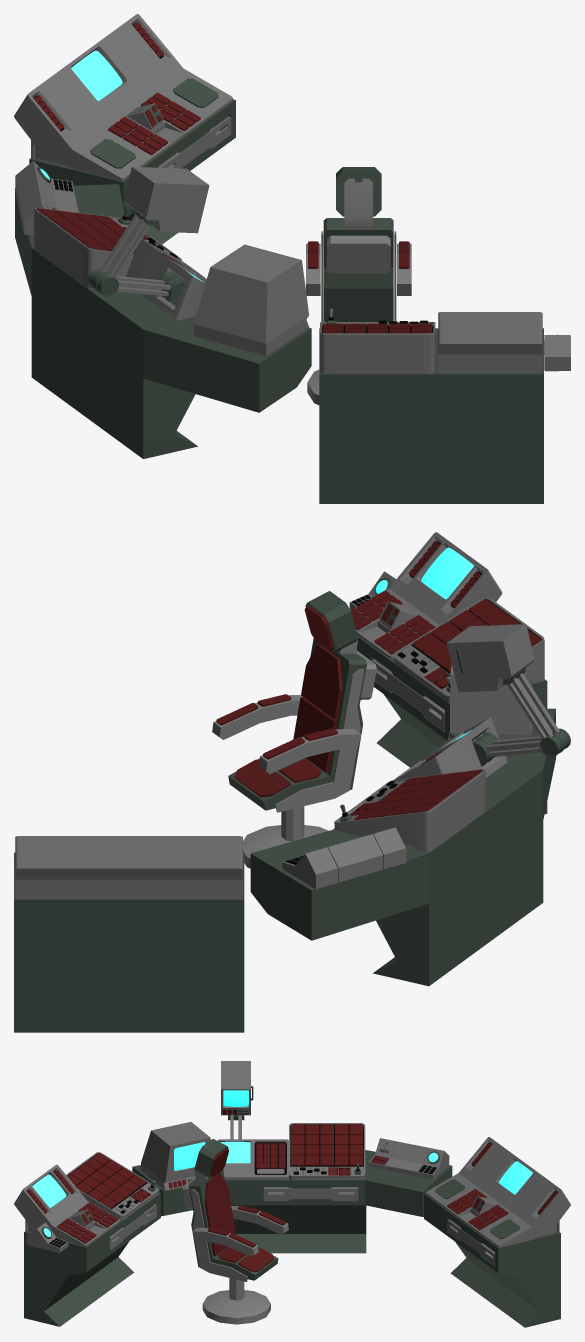
File: control_terminal.glb
3 renders of one model, top to bottom at view 1: azimuth 30°, elevation 25°; view 2: azimuth 150°, elevation 25°; view 3: azimuth 270°, elevation 25°, orthographic. The views are drawn at different scales.
Visible parts, largest first — view 1: polySurface121 (×3), pCube76 (×2), pCube64, polySurface119 (×2), pasted__polySurface16, polySurface130, pCube72 (×2), polySurface125, pasted__polySurface17, pCube62, pCube101, polySurface171 (+9 smaller); view 2: polySurface121 (×3), pCube76 (×2), polySurface119 (×2), pCube72 (×2), polySurface130, pCube62, pCube64, pasted__polySurface10, pasted__polySurface16, polySurface125, pasted__polySurface2, pasted__polySurface4 (+14 smaller); view 3: polySurface121 (×3), pCube76 (×2), pCube72 (×2), polySurface119 (×2), pCube64, polySurface129 (×3), pCube62, pCube101 (×2), pasted__pCylinder1, polySurface125, pasted__polySurface10, polySurface146 (×2) (+14 smaller).
Part boxes in pixels (x1=…): polySurface121 (×3): x1=15, y1=99, x2=543, y2=503; pCube76 (×2): x1=14, y1=14, x2=542, y2=373; pCube64: x1=194, y1=244, x2=308, y2=355; polySurface119 (×2): x1=34, y1=207, x2=435, y2=373; pasted__polySurface16: x1=323, y1=218, x2=393, y2=321; polySurface130: x1=123, y1=166, x2=209, y2=233; pCube72 (×2): x1=36, y1=208, x2=432, y2=333; polySurface125: x1=126, y1=239, x2=206, y2=320; pasted__polySurface17: x1=327, y1=235, x2=390, y2=273; pCube62: x1=15, y1=161, x2=78, y2=234; pCube101: x1=108, y1=92, x2=200, y2=154; polySurface171: x1=90, y1=78, x2=218, y2=168; polySurface121 (×3): x1=14, y1=635, x2=555, y2=1032; pCube76 (×2): x1=15, y1=532, x2=502, y2=898; polySurface119 (×2): x1=334, y1=597, x2=544, y2=851; pCube72 (×2): x1=354, y1=598, x2=541, y2=819; polySurface130: x1=446, y1=624, x2=534, y2=692; pCube62: x1=282, y1=827, x2=406, y2=889; pCube64: x1=450, y1=664, x2=533, y2=739; pasted__polySurface10: x1=212, y1=695, x2=361, y2=773; pasted__polySurface16: x1=228, y1=638, x2=366, y2=810; polySurface125: x1=394, y1=716, x2=507, y2=779; pasted__polySurface2: x1=275, y1=669, x2=364, y2=812; pasted__polySurface4: x1=301, y1=644, x2=342, y2=719; polySurface121 (×3): x1=24, y1=1150, x2=560, y2=1327; pCube76 (×2): x1=14, y1=1137, x2=570, y2=1247; pCube72 (×2): x1=67, y1=1124, x2=363, y2=1208; polySurface119 (×2): x1=66, y1=1123, x2=365, y2=1220; pCube64: x1=141, y1=1122, x2=210, y2=1190; polySurface129 (×3): x1=110, y1=1187, x2=495, y2=1266; pCube62: x1=369, y1=1138, x2=449, y2=1179; pCube101 (×2): x1=57, y1=1189, x2=508, y2=1243; pasted__pCylinder1: x1=202, y1=1290, x2=270, y2=1324; polySurface125: x1=217, y1=1139, x2=288, y2=1180; pasted__polySurface10: x1=192, y1=1206, x2=288, y2=1256; polySurface146 (×2): x1=32, y1=1161, x2=532, y2=1207.
Bounding box in the file's own units: 18.81 × 14.18 × 39.95.
